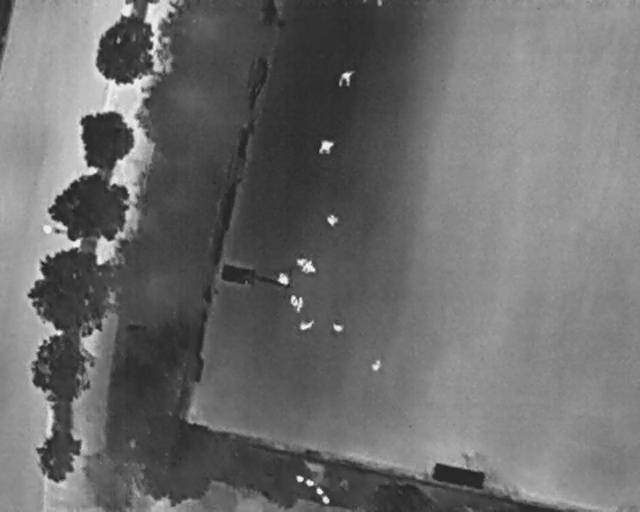Person: (298, 257, 320, 279), (338, 70, 354, 90), (296, 317, 316, 333), (317, 140, 335, 155), (289, 294, 303, 313), (276, 272, 290, 287), (327, 212, 339, 226), (293, 257, 308, 267), (332, 322, 345, 333), (372, 360, 382, 371)
